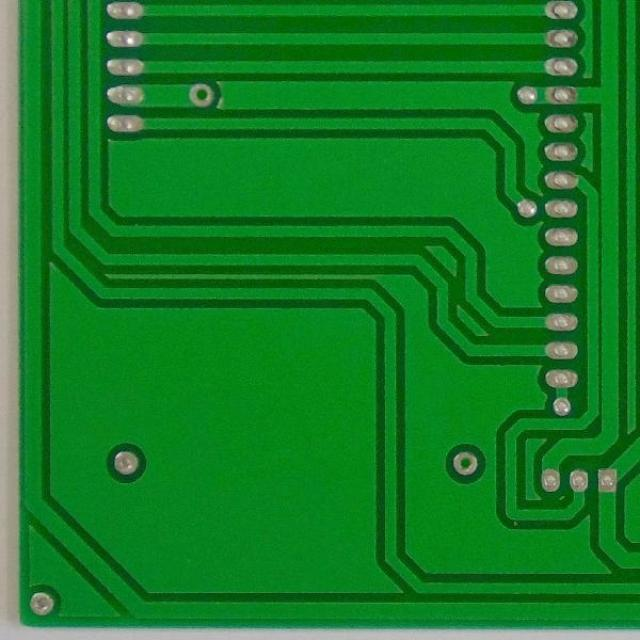Missing_Hole: (186, 82, 214, 110), (450, 450, 480, 476)
